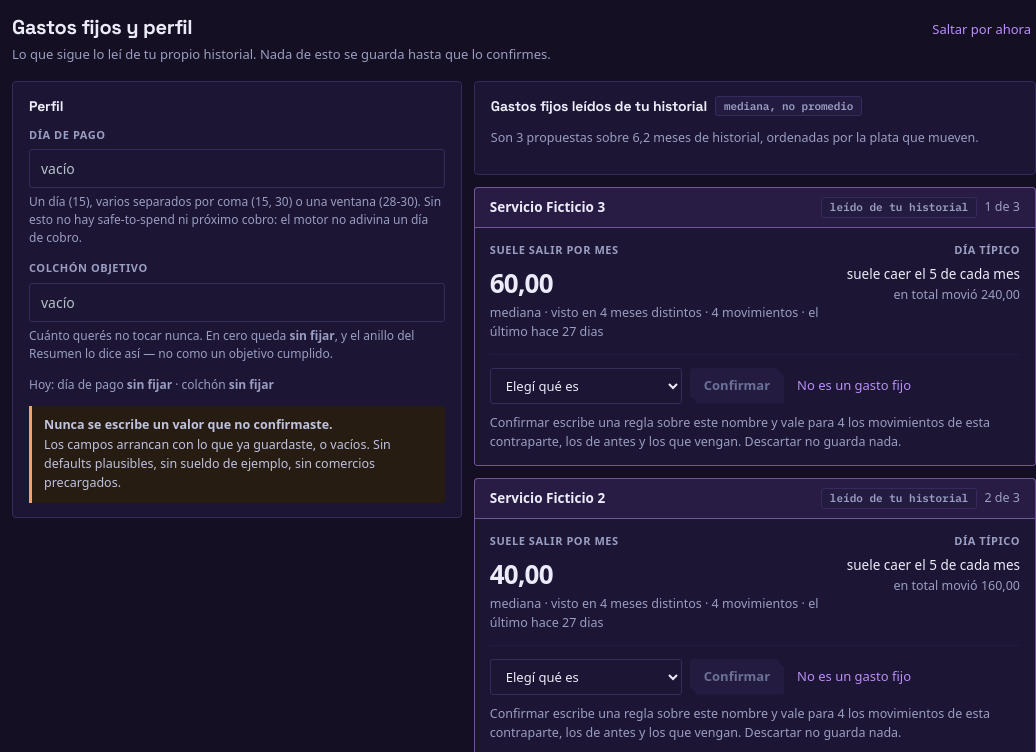
Test case: nada se guarda sin confirmación explícita (criterio 4) › descartar NO escribe: saca la propuesta y lo dice
Click the button with test id "recurring-descartar" below "en total movió 240,00".
click(854, 386)  # box [792,368,916,404]
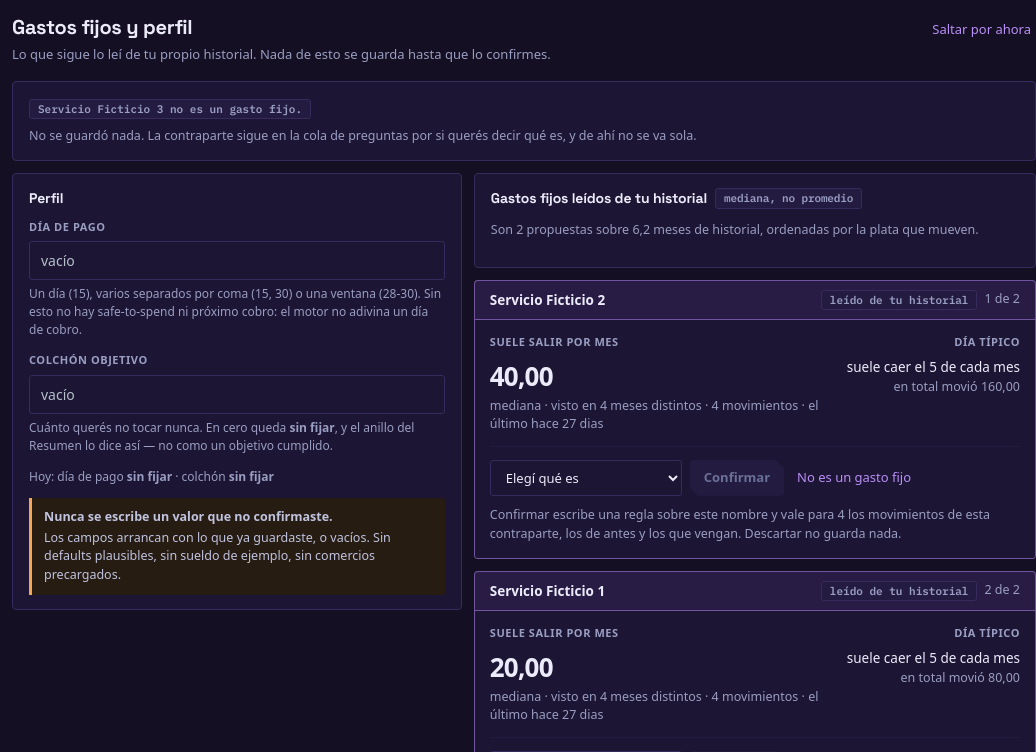
Expected: the element with test id "alta-efecto" shows "No se guardó nada", [29,127,697,144]
